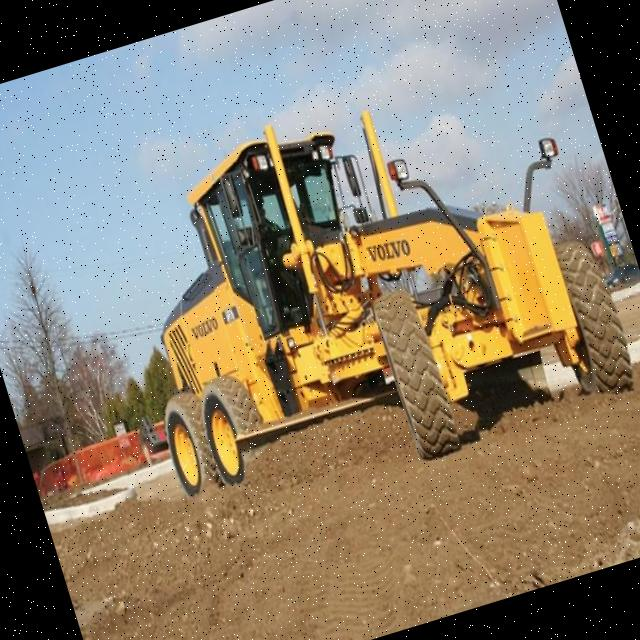Grader: (68, 30, 640, 556)
